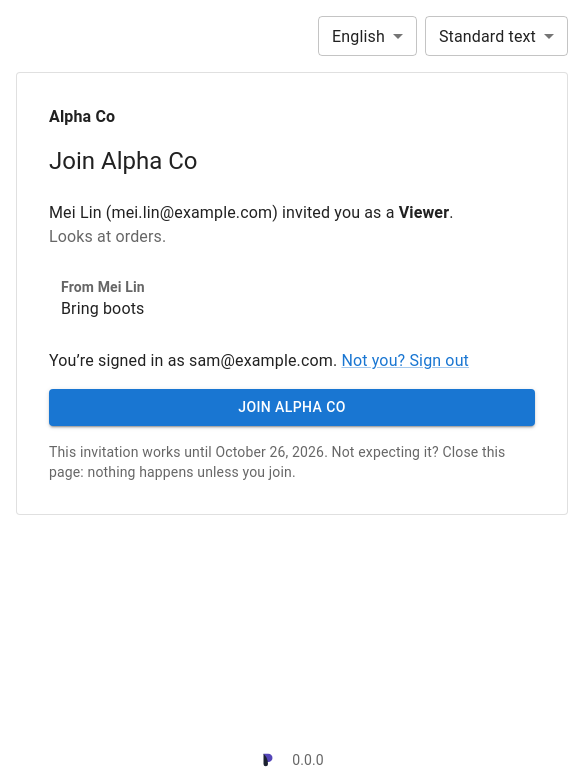
it: InvitationPage (ADR-077) › says so when Not you? Sign out fails, and stays
Click the button "Not you? Sign out". click: x=405, y=361
box: [341,349,469,373]
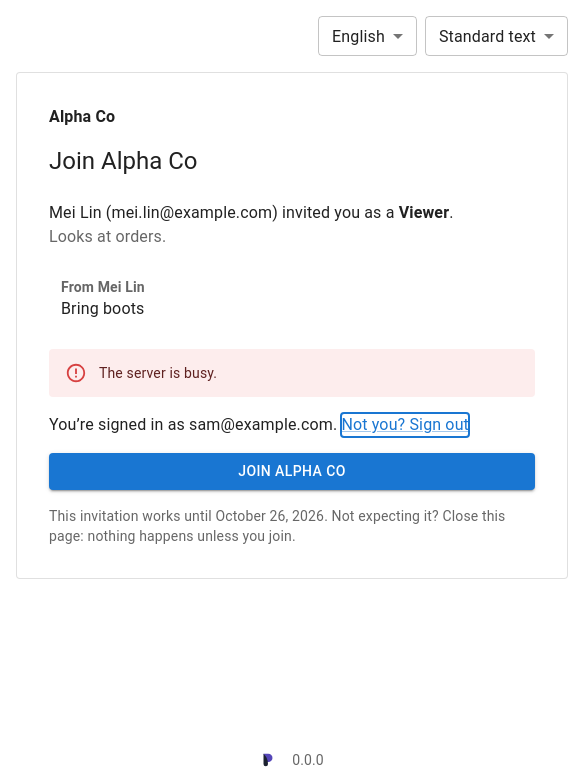
Expected: the button "Join Alpha Co" is shown, [49,453,535,490]
Result: the text "The server is busy." is shown at [99,365,217,381]
